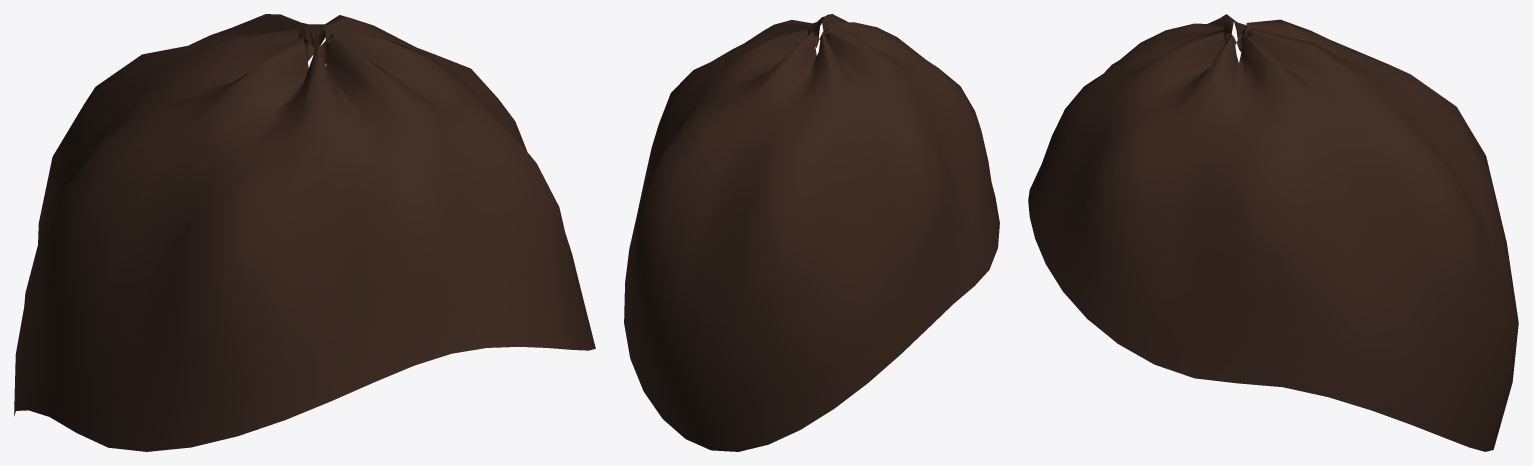
File: curls.glb
The picture shows the model from 3 angles, left to right: view 1: azimuth 30°, elevation 25°; view 2: azimuth 150°, elevation 25°; view 3: azimuth 270°, elevation 25°; orthographic projection. The views are drawn at different scales.
Parts seen in each view (by area): view 1: hair-curls; view 2: hair-curls; view 3: hair-curls.
Part boxes in pixels (x1,y1,x2,y2): hair-curls: (14,14,595,451); hair-curls: (624,14,999,451); hair-curls: (1028,14,1518,451).
Size of the model in its own units: 0.1678 by 0.1785 by 0.1924.
